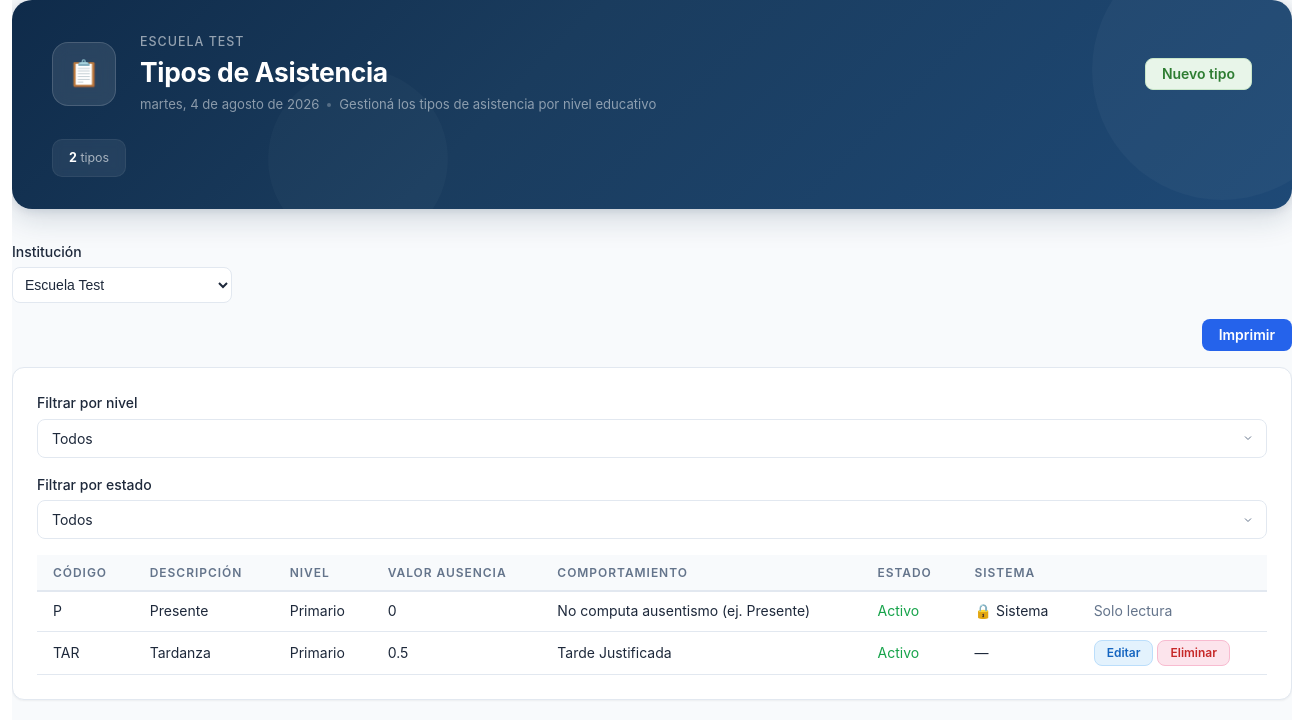
Scenario: AttendanceTypesPage — behavior selector › editing a custom type pre-fills the behavior selector with its current value
Expected: the text "TAR" is shown, [37, 631, 134, 674]
Click the button "Editar": (1124, 653) [1094, 640, 1153, 666]
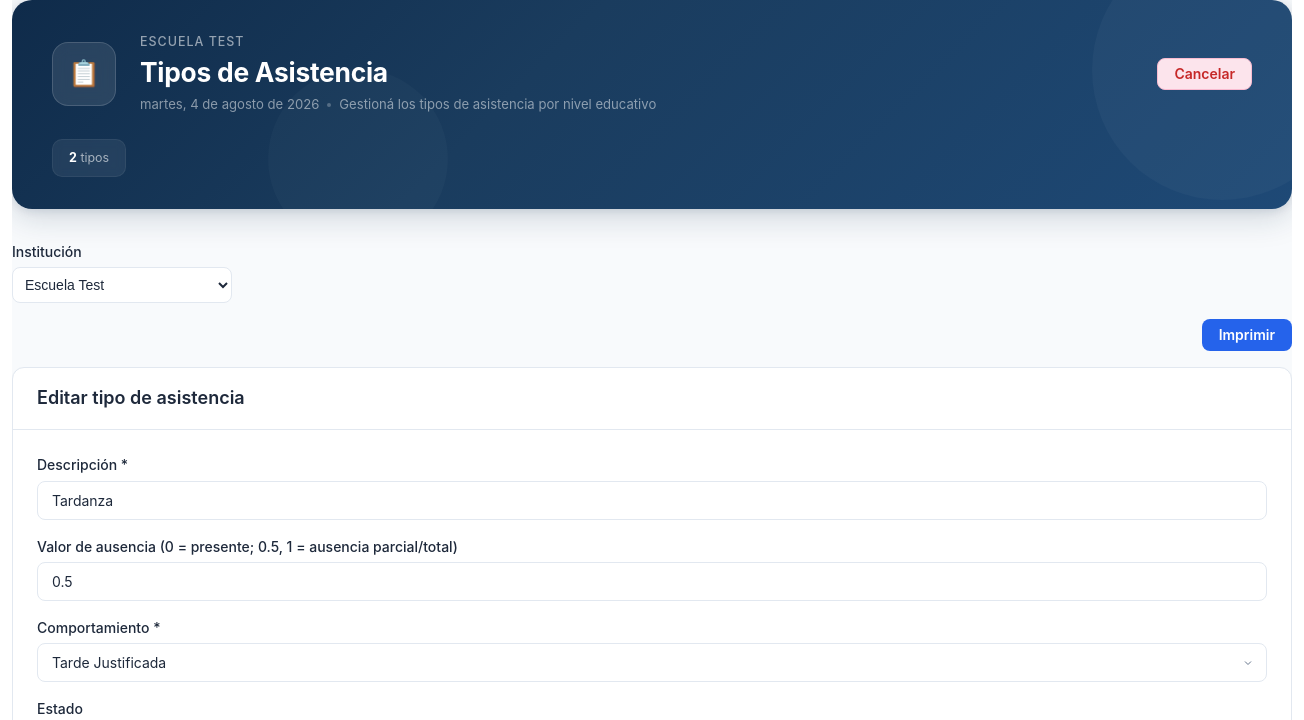
Now the dropdown labelled "Comportamiento *" shows "Tarde Justificada", box [37, 643, 1267, 682]
